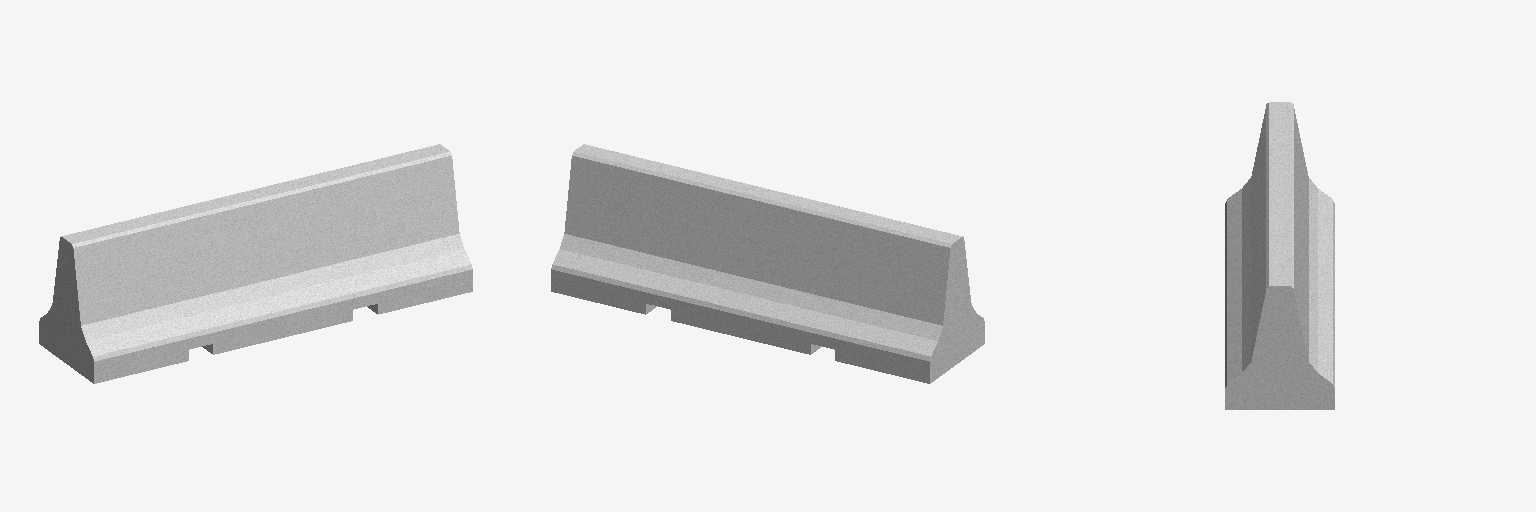
3 renders of one model, left to right at view 1: azimuth 30°, elevation 25°; view 2: azimuth 150°, elevation 25°; view 3: azimuth 270°, elevation 25°, orthographic.
Parts seen in each view (by area): view 1: SeparateurDeVoie_Cube.010; view 2: SeparateurDeVoie_Cube.010; view 3: SeparateurDeVoie_Cube.010.
Boxes of the visible parts, box(x1,y1,x2,y2) form: SeparateurDeVoie_Cube.010: box(39, 144, 472, 383); SeparateurDeVoie_Cube.010: box(551, 144, 984, 383); SeparateurDeVoie_Cube.010: box(1225, 102, 1334, 409).
Bounding box in the file's own units: 240 × 75 × 60.
Materials: 1 (1 with a texture image).